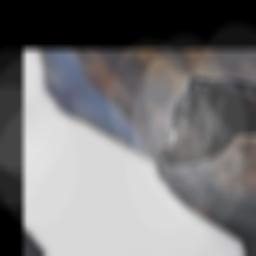Crow: (117, 75, 245, 178)
